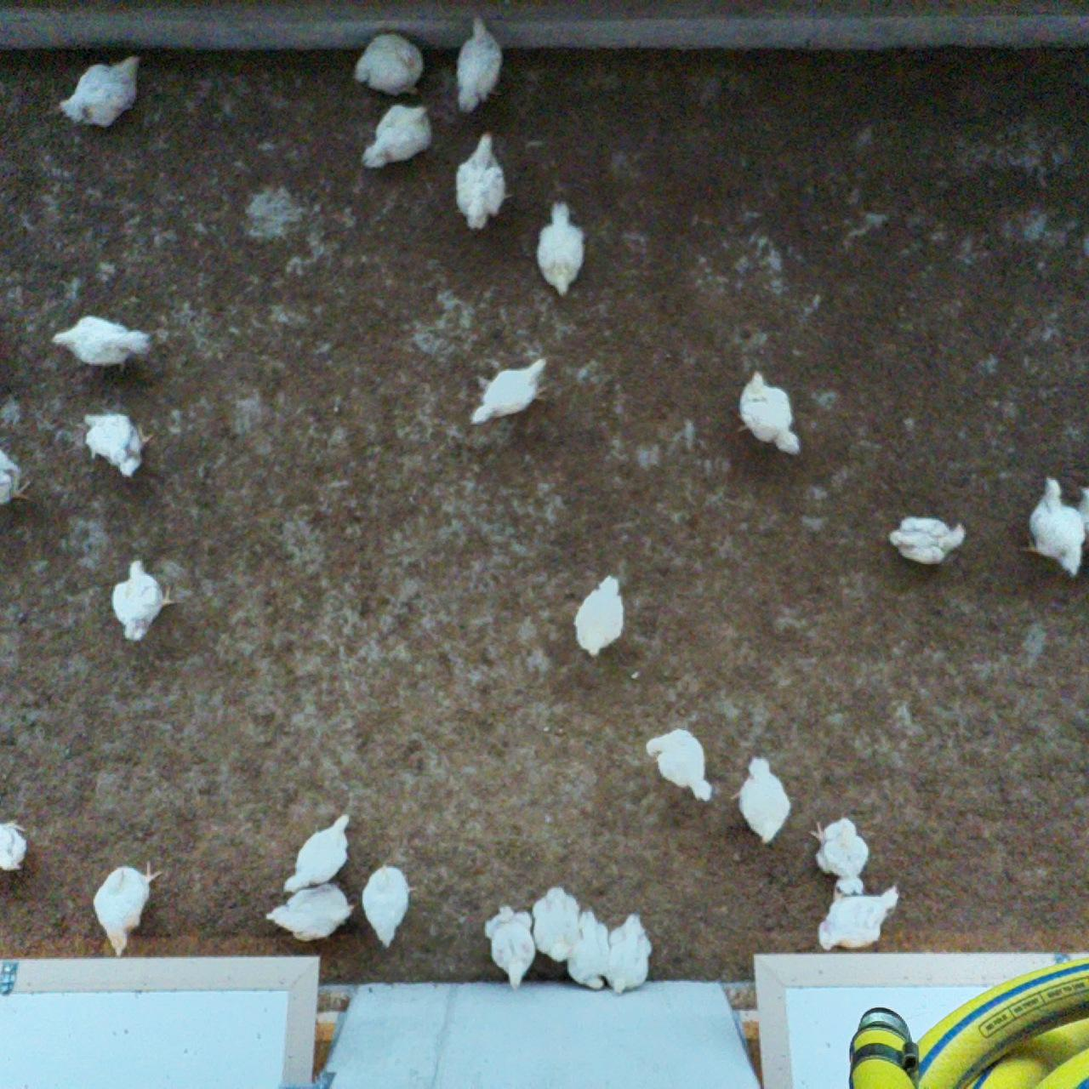chicken: (1012, 466, 1089, 578), (90, 855, 163, 959), (448, 125, 516, 236), (468, 355, 557, 435), (56, 51, 145, 130), (280, 808, 357, 899), (47, 312, 154, 376), (727, 751, 796, 850), (814, 882, 905, 956), (108, 553, 179, 647), (733, 364, 804, 456), (448, 10, 509, 117), (262, 879, 358, 945), (75, 405, 158, 481), (644, 723, 716, 807), (349, 27, 432, 99), (531, 195, 589, 298), (806, 810, 873, 898), (356, 103, 435, 176), (361, 858, 421, 952), (479, 898, 537, 995), (569, 570, 628, 660), (529, 880, 587, 967), (603, 910, 658, 998), (885, 513, 969, 570), (561, 905, 612, 991), (0, 446, 35, 515), (0, 818, 34, 876)
